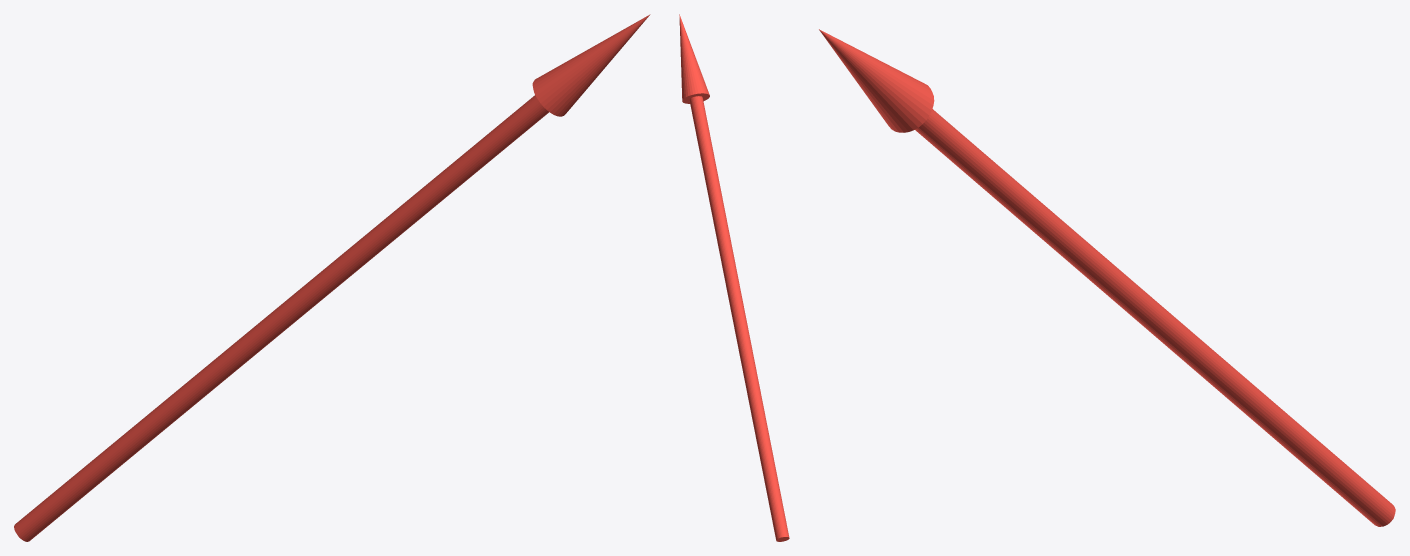
Rendered from Axis 1 A_SF6.gltf.
3 renders of one model, left to right at view 1: azimuth 30°, elevation 25°; view 2: azimuth 150°, elevation 25°; view 3: azimuth 270°, elevation 25°, orthographic. The views are drawn at different scales.
Parts seen in each view (by area): view 1: Eje_C3a_Eje_Cono.004; view 2: Eje_C3a_Eje_Cono.004; view 3: Eje_C3a_Eje_Cono.004.
Boxes of the visible parts, x1,y1,x2,y2 form: Eje_C3a_Eje_Cono.004: (14,14,650,541); Eje_C3a_Eje_Cono.004: (679,14,789,541); Eje_C3a_Eje_Cono.004: (819,29,1395,526).
Size of the model in its own units: 1.53 by 2.15 by 1.53.
